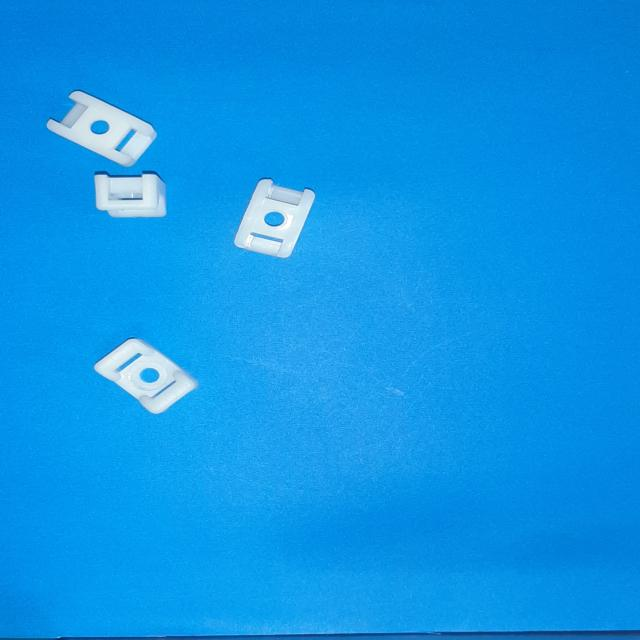false_1: (47, 90, 157, 166), (235, 179, 315, 258)
false_3: (95, 171, 167, 218)
true: (95, 339, 198, 414)
true_center: (139, 368, 160, 383)
